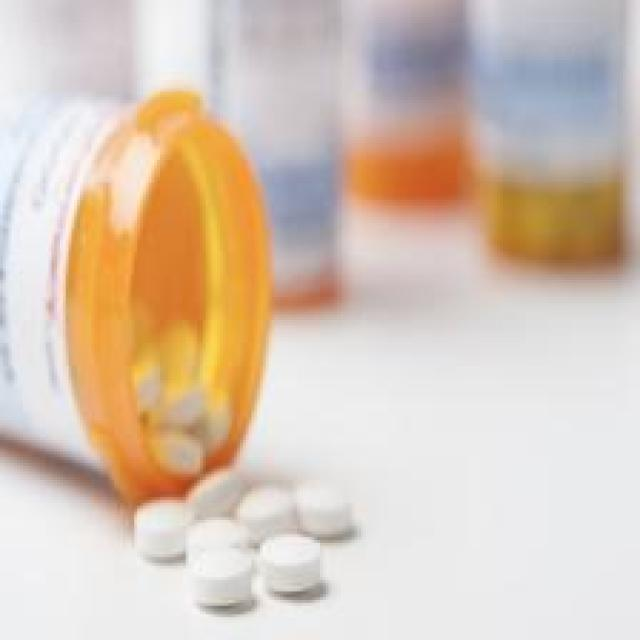Medicine: (0, 93, 415, 640)
